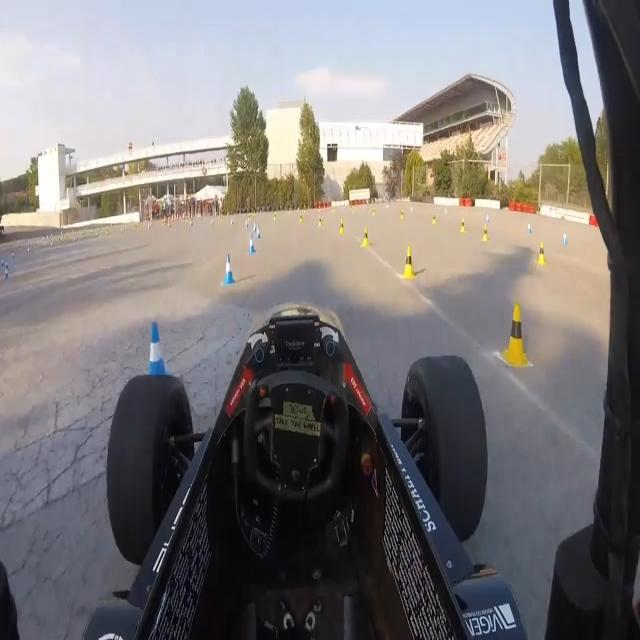blue_cone: (142, 316, 175, 375), (220, 252, 237, 292), (247, 235, 256, 254), (526, 220, 532, 235), (563, 231, 568, 247), (256, 227, 262, 239), (252, 221, 256, 232)
yellow_cone: (501, 301, 530, 371), (400, 242, 418, 282), (536, 240, 548, 267), (359, 225, 372, 249), (482, 224, 491, 244), (337, 218, 346, 235), (459, 217, 467, 234), (400, 208, 406, 221), (317, 216, 324, 227), (432, 212, 437, 226), (299, 213, 304, 223), (372, 207, 376, 216), (274, 214, 277, 221)
